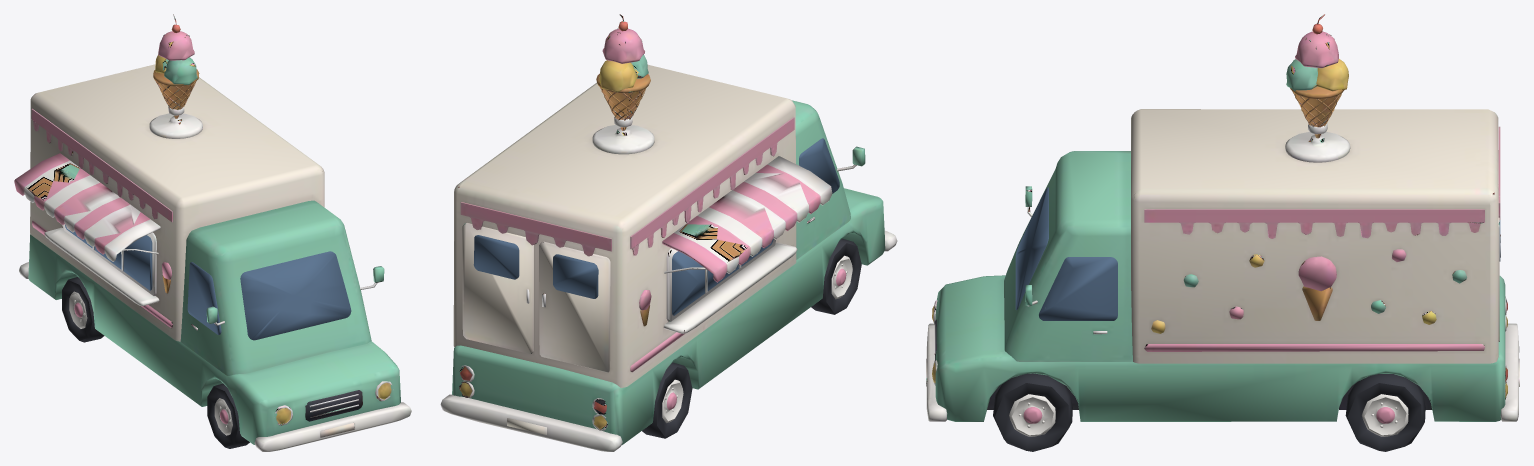
File: ice-cream-truck.glb
3 renders of one model, left to right at view 1: azimuth 30°, elevation 25°; view 2: azimuth 150°, elevation 25°; view 3: azimuth 270°, elevation 25°, orthographic. The views are drawn at different scales.
Parts seen in each view (by area): view 1: ice-cream-truck_body, ice-cream-truck_rear_windows, ice-cream-truck_wheel_fl; view 2: ice-cream-truck_body, ice-cream-truck_rear_windows, ice-cream-truck_wheel_fl; view 3: ice-cream-truck_body, ice-cream-truck_wheel_fl, ice-cream-truck_rear_windows.
Part boxes in pixels (<box>): ice-cream-truck_body: <box>14,14,411,451</box>; ice-cream-truck_rear_windows: <box>65,224,351,340</box>; ice-cream-truck_wheel_fl: <box>62,277,249,448</box>; ice-cream-truck_body: <box>440,14,897,451</box>; ice-cream-truck_rear_windows: <box>473,138,839,315</box>; ice-cream-truck_wheel_fl: <box>642,238,861,438</box>; ice-cream-truck_body: <box>926,14,1519,421</box>; ice-cream-truck_wheel_fl: <box>993,373,1425,451</box>; ice-cream-truck_rear_windows: <box>1015,187,1500,320</box>.
Bounding box in the file's own units: 2.88 × 4.32 × 5.85.
Materials: 5 (1 with a texture image).
